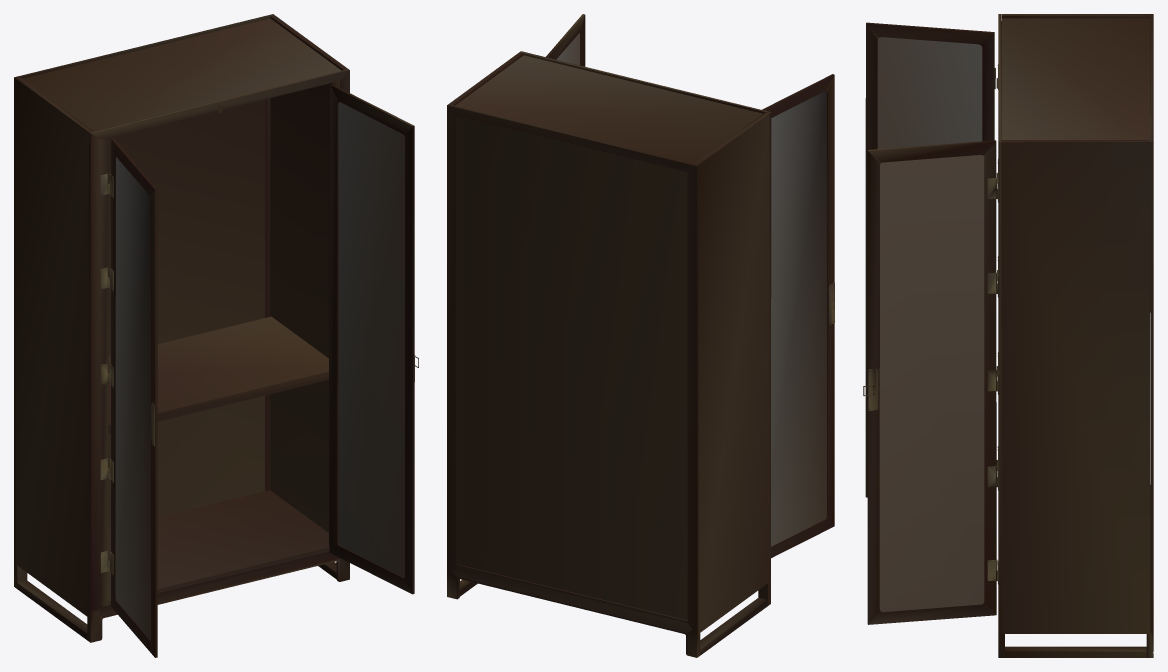
File: opened.glb
3 views of the same model, side by side, from view 1: azimuth 30°, elevation 25°; view 2: azimuth 150°, elevation 25°; view 3: azimuth 270°, elevation 25° (orthographic). The views are drawn at different scales.
Visible parts, largest first — view 1: SM_Unhyun_Wardrobe223_body_M_Wardrobe223_0; view 2: SM_Unhyun_Wardrobe223_body_M_Wardrobe223_0; view 3: SM_Unhyun_Wardrobe223_body_M_Wardrobe223_0.
Boxes of the visible parts, <box> form: SM_Unhyun_Wardrobe223_body_M_Wardrobe223_0: <box>14,14,418,657</box>; SM_Unhyun_Wardrobe223_body_M_Wardrobe223_0: <box>447,14,834,657</box>; SM_Unhyun_Wardrobe223_body_M_Wardrobe223_0: <box>863,14,1153,657</box>.
Bounding box in the file's own units: 1.04 × 1.92 × 0.9807.
